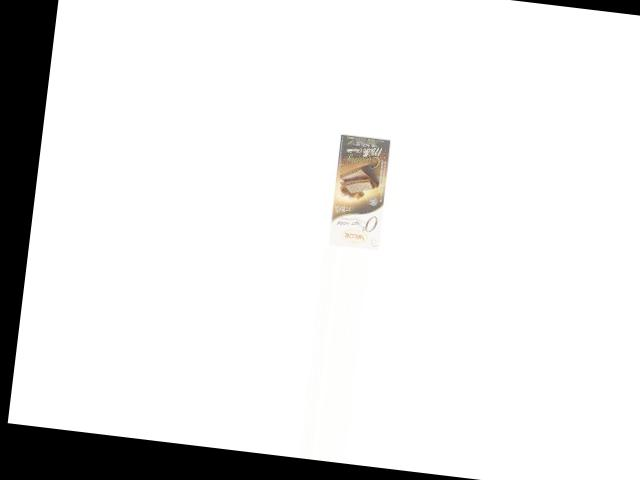chocolate: (325, 133, 394, 250)
